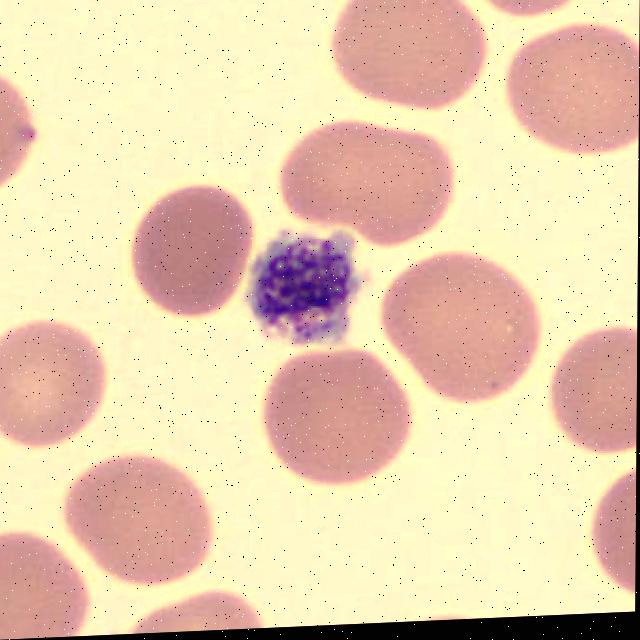platelets: (237, 214, 365, 352)
rbc: (365, 242, 554, 428), (265, 112, 459, 259), (249, 338, 413, 488), (59, 445, 218, 598), (490, 16, 639, 168), (124, 164, 252, 321), (313, 0, 480, 118), (0, 313, 107, 454), (544, 314, 637, 470), (0, 525, 109, 640), (581, 474, 636, 614), (128, 580, 270, 634), (0, 49, 44, 196), (0, 414, 22, 529), (454, 0, 594, 16)
